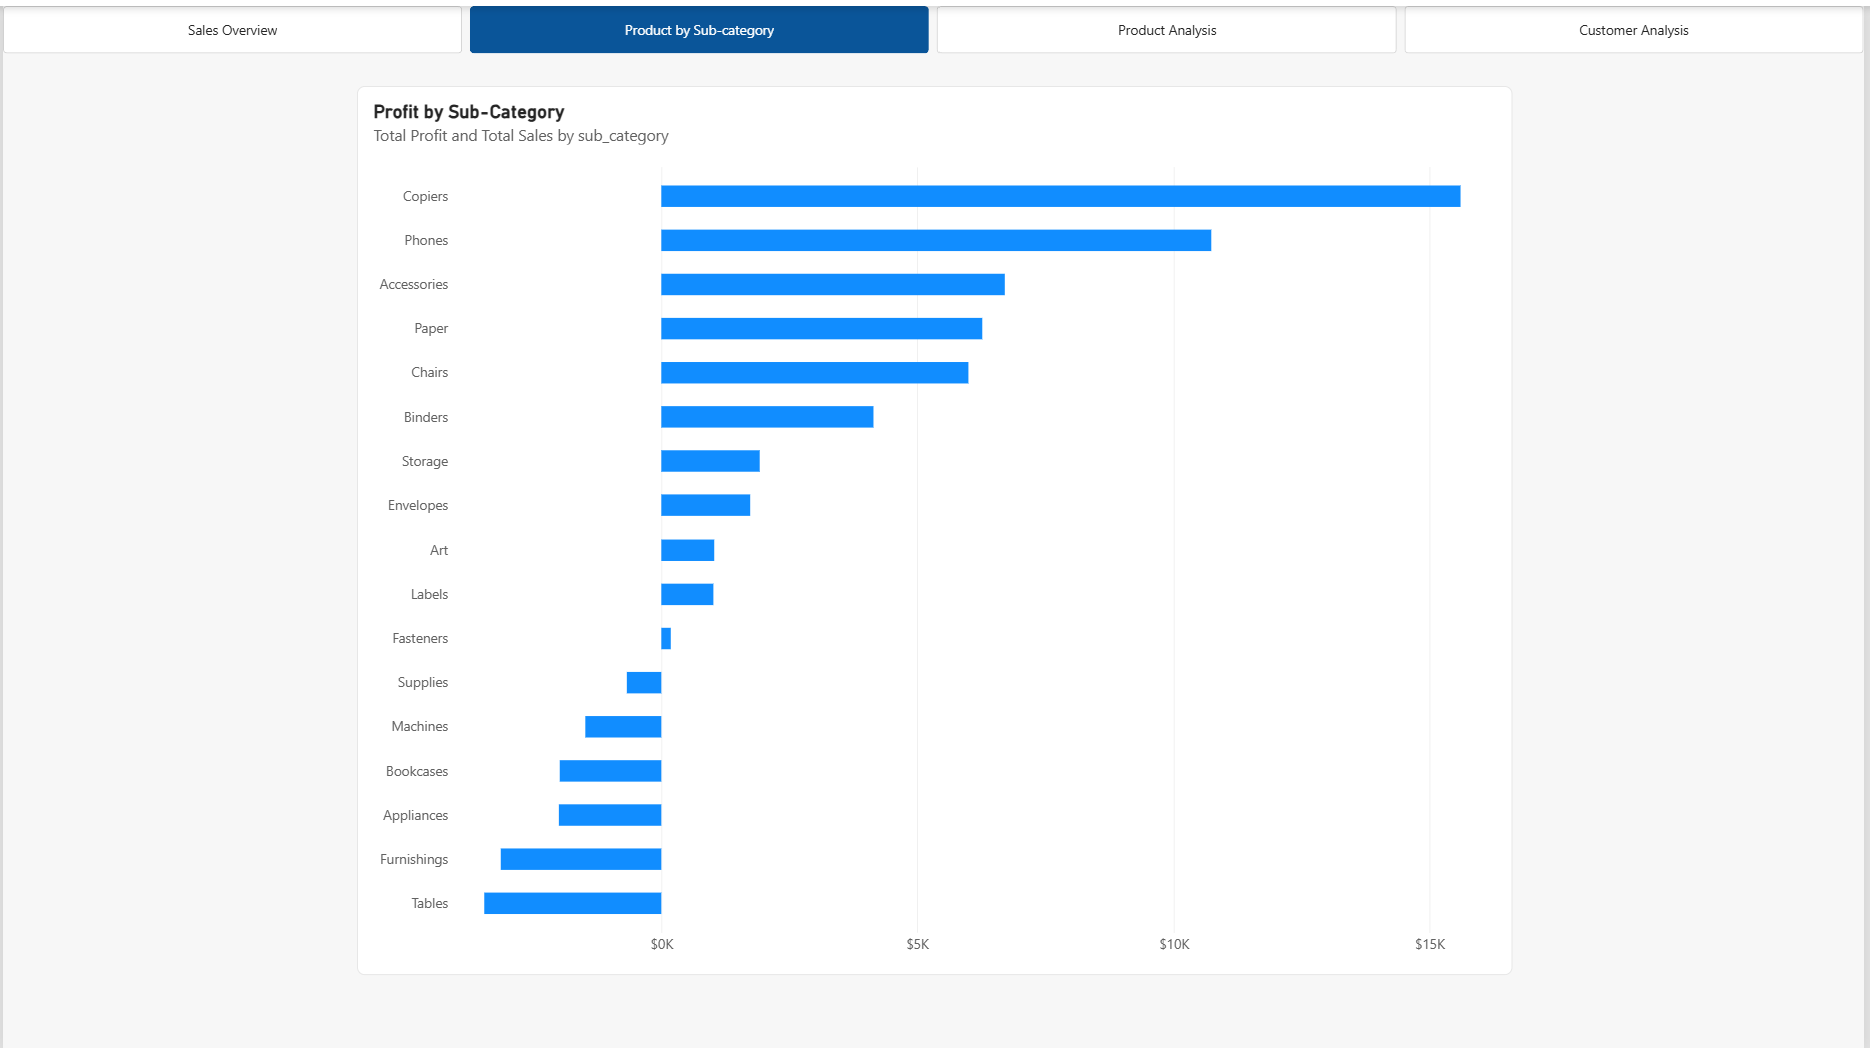

Layout of this report page (visuals, bound fields, positions):
{"tool":"powerbi","page":{"name":"Product by Sub-category","canvas":[1920,1080],"ordinal":1},"visuals":[{"type":"clusteredBarChart","title":"Profit by Sub-Category","fields":{"Category":["public superstore_historical.sub_category"],"Y":["public superstore_historical.Total Profit"]},"box":[365.5,82.6,1192,916.8],"z":0},{"type":"slicer","fields":{"Values":["public superstore_historical.category"]},"box":[1715.3,147.9,168.3,63.7],"z":2000},{"type":"pageNavigator","box":[0,0,1920.5,49.6],"z":3001}]}

Visuals, with their boxes on the page's 1920x1080 design canvas (x1, y1, x2, y2). These are canvas units, not pixel positions in the 1870x1048 screenshot, which may show the page scaled, cropped or inside an application window:
"Profit by Sub-Category" clusteredBarChart: box(366, 83, 1558, 999)
slicer - public superstore_historical.category: box(1715, 148, 1884, 212)
pageNavigator: box(0, 0, 1920, 50)
